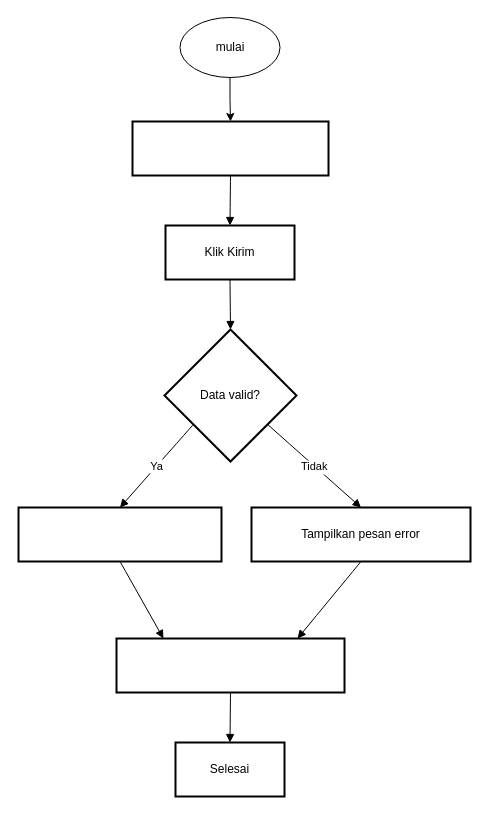
Some shapes in this 488 by 815 pixel diagram are drawn without their labels. The centre of each missing label's shape, as x and y in pixels:
"Isi form Buku Tamu" belongs at point (230, 148).
"Simpan ke database" belongs at point (119, 534).
"Tampilkan pesan sukses" belongs at point (230, 665).
